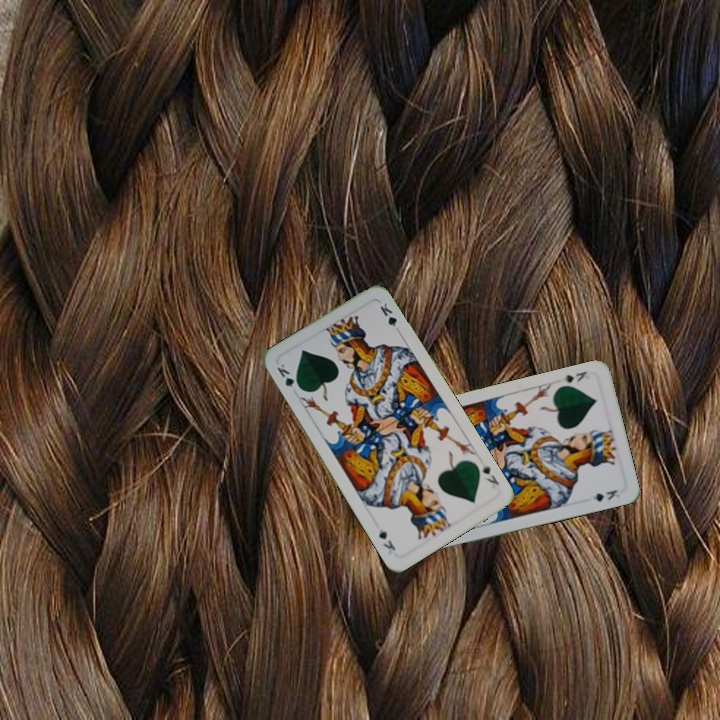GK: (272, 360, 304, 394), (477, 459, 502, 491), (558, 367, 589, 385)
